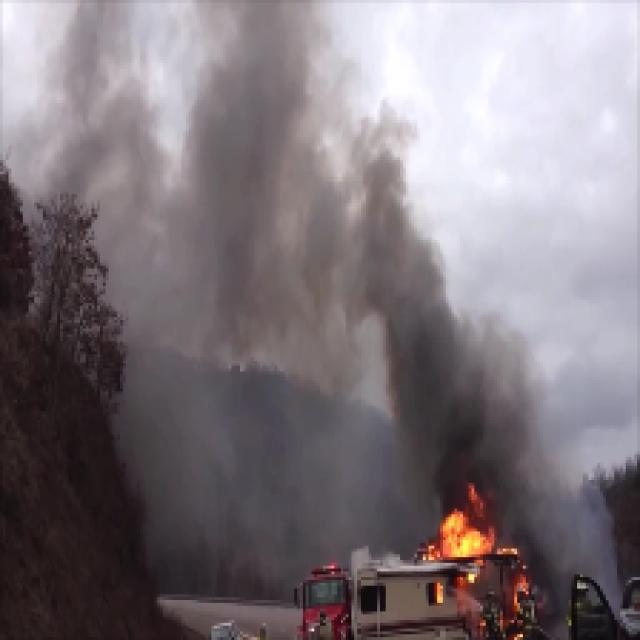fire: (434, 500, 496, 566)
smoke: (412, 337, 536, 481), (287, 203, 414, 319)
